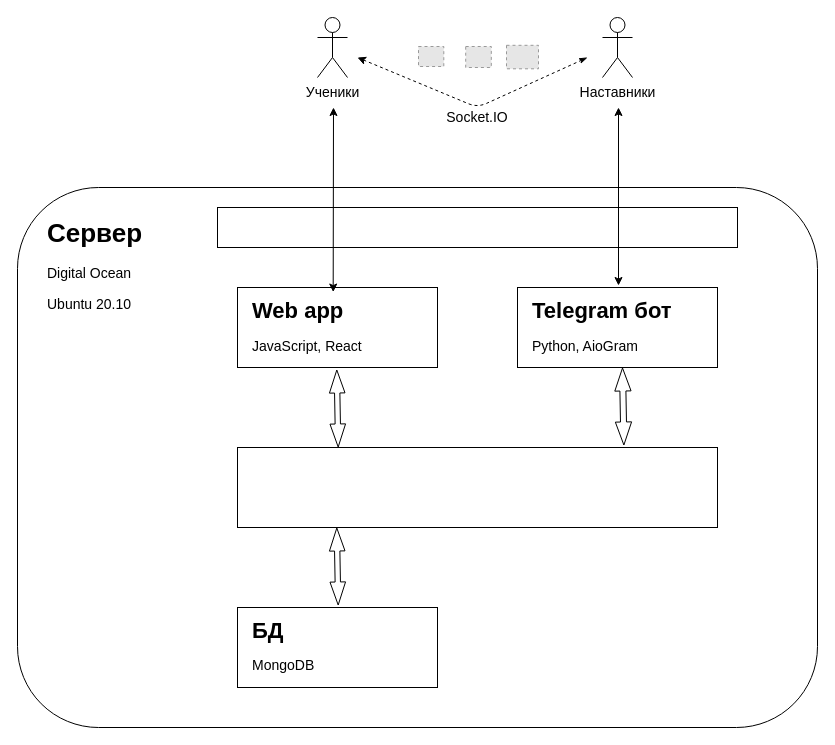
The diagram is 835 pixels wide and 745 high, and some of its shapes have lost their labels. Grey dashed boxes stand in for pictures. The centre of each missing label's shape, as x and y in pixels:
API Python, FastAPI: the point at 477,487
NGINX + Let's Encrypt: the point at 477,227
